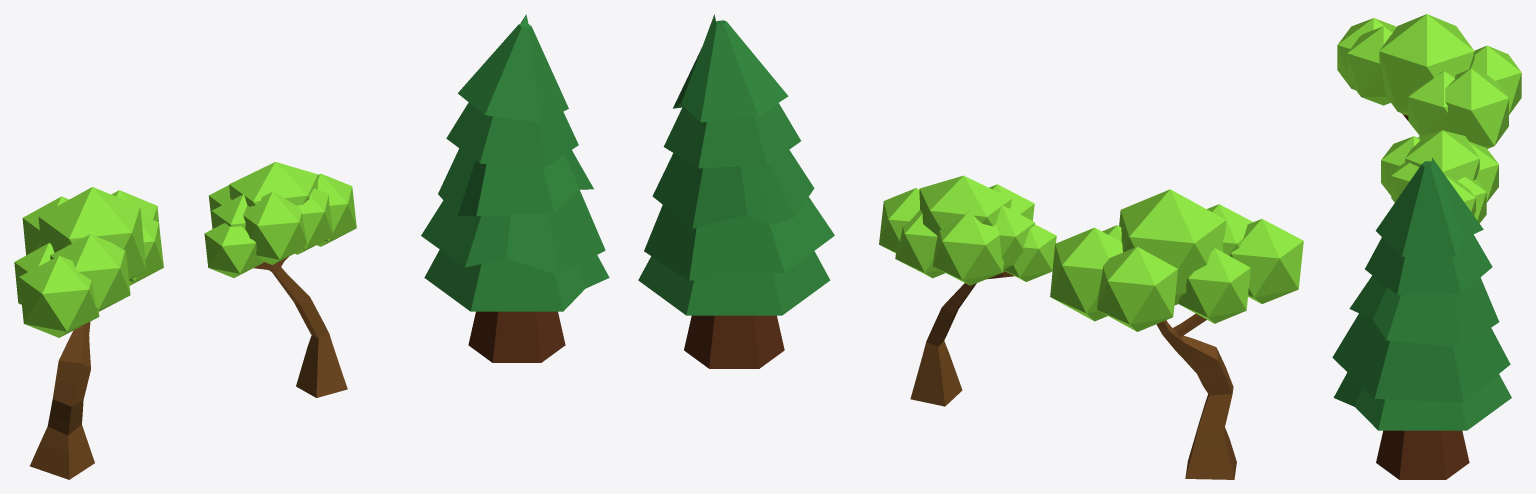
File: trees.fbx
The picture shows the model from 3 angles, left to right: view 1: azimuth 30°, elevation 25°; view 2: azimuth 150°, elevation 25°; view 3: azimuth 270°, elevation 25°; orthographic projection. The views are drawn at different scales.
Visible parts, largest first — view 1: Cylinder.001, Icosphere, Icosphere.011; view 2: Cylinder.001, Icosphere, Icosphere.011; view 3: Cylinder.001, Icosphere, Icosphere.011.
Boxes of the visible parts, x1,y1,x2,y2 form: Cylinder.001: (421,14,609,362); Icosphere: (14,187,163,479); Icosphere.011: (204,162,356,397); Cylinder.001: (638,14,834,368); Icosphere: (1050,189,1303,479); Icosphere.011: (879,175,1056,406); Cylinder.001: (1332,157,1511,479); Icosphere: (1337,14,1521,148); Icosphere.011: (1381,130,1498,223).
Bounding box in the file's own units: 1086 × 585 × 314.
